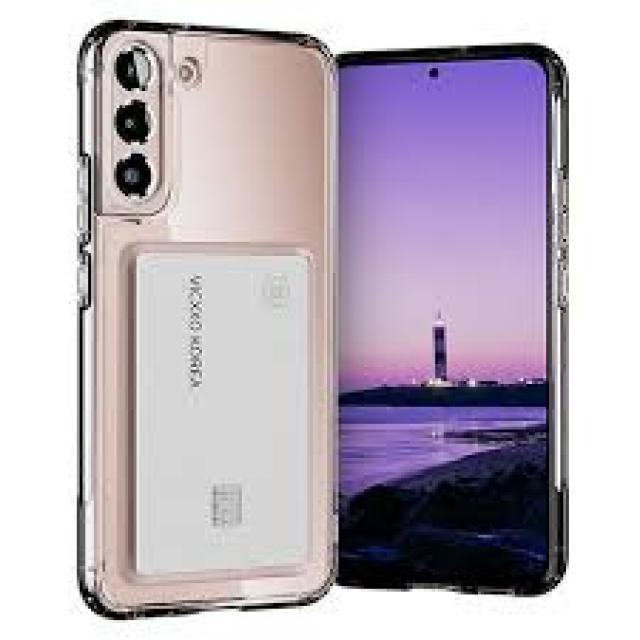lens: (110, 41, 163, 204)
phone: (69, 11, 340, 617), (337, 41, 575, 606)
